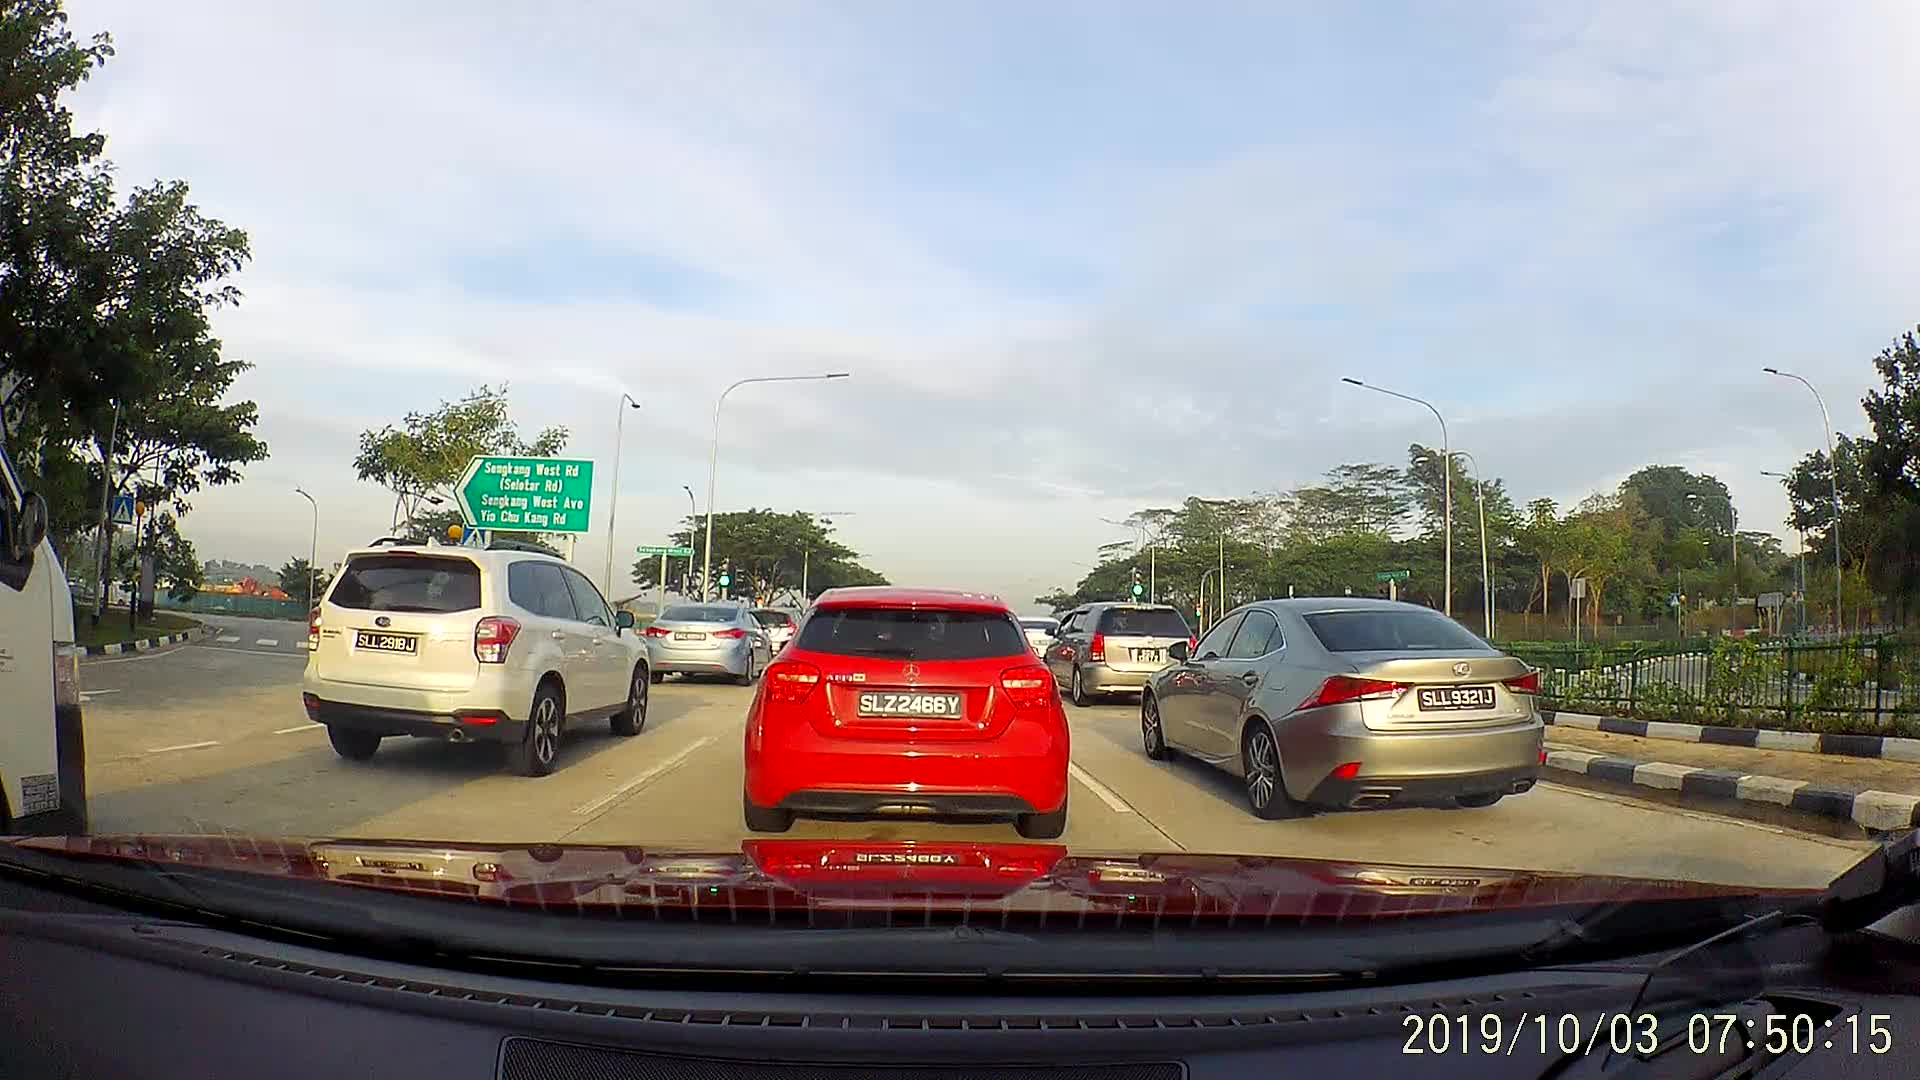car: (1135, 580, 1552, 829), (290, 534, 661, 781), (723, 589, 1076, 840), (0, 430, 99, 828), (1026, 593, 1205, 707), (647, 574, 779, 690)
